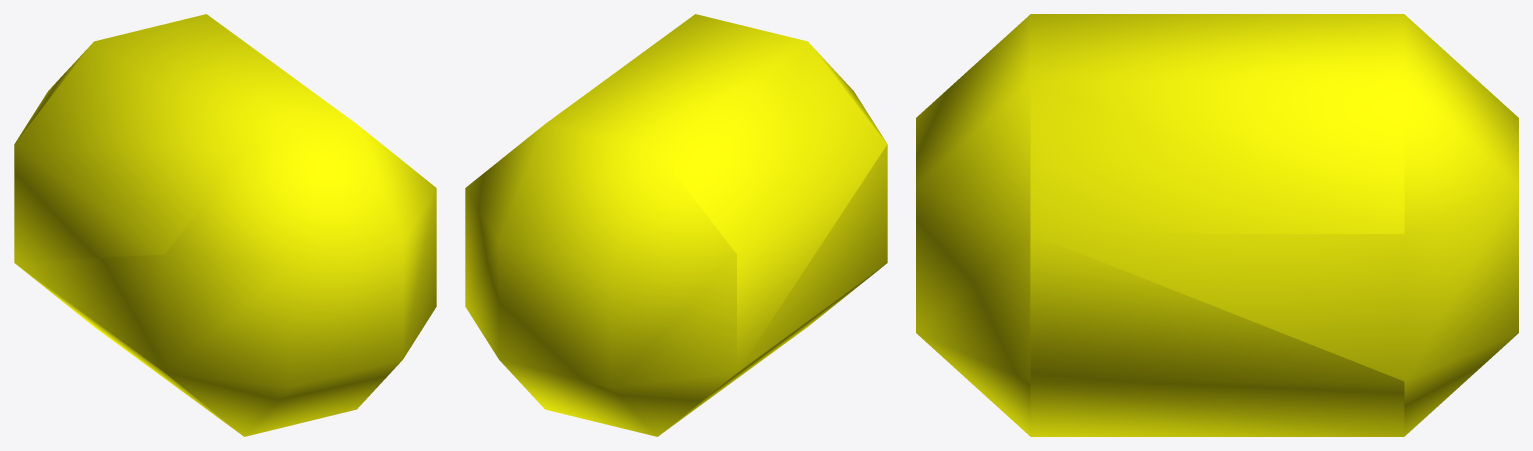
File: A0509_5_1.bbox.gltf
3 renders of one model, left to right at view 1: azimuth 30°, elevation 25°; view 2: azimuth 150°, elevation 25°; view 3: azimuth 270°, elevation 25°, orthographic. The views are drawn at different scales.
Parts seen in each view (by area): view 1: A0509_5_1.bbox; view 2: A0509_5_1.bbox; view 3: A0509_5_1.bbox.
Part boxes in pixels (box(x1,y1,x2,y2)): A0509_5_1.bbox: box(14, 14, 436, 436); A0509_5_1.bbox: box(465, 14, 887, 436); A0509_5_1.bbox: box(916, 14, 1518, 436).
Bounding box in the file's own units: 101 × 101 × 156.
